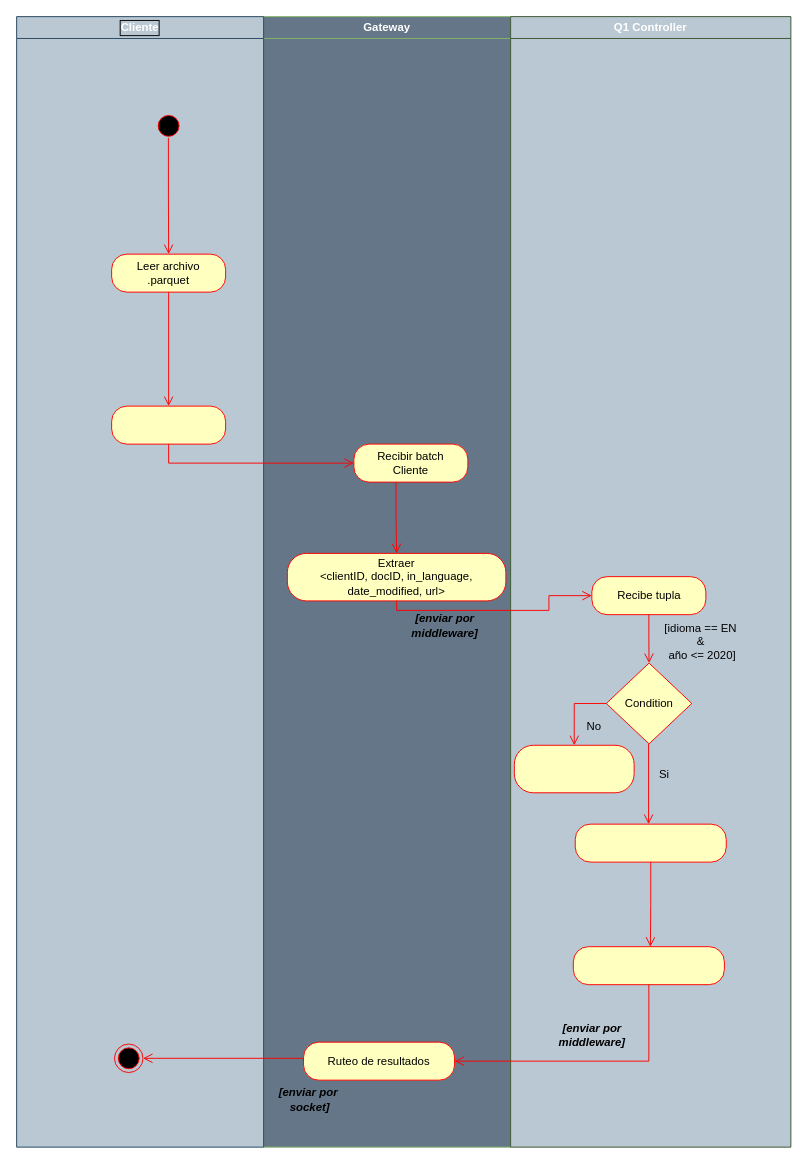
This 808x1164 diagram has some shape labels left out. The shapes that lost their labels are listed below. From the top down, each one's centre as x and y in pixels, then its label:
At [168,424]: "Partir en batches".
At [573,768]: "Descartar".
At [650,842]: "Formatear resultado".
At [648,965]: "Enviar a Gateway".
